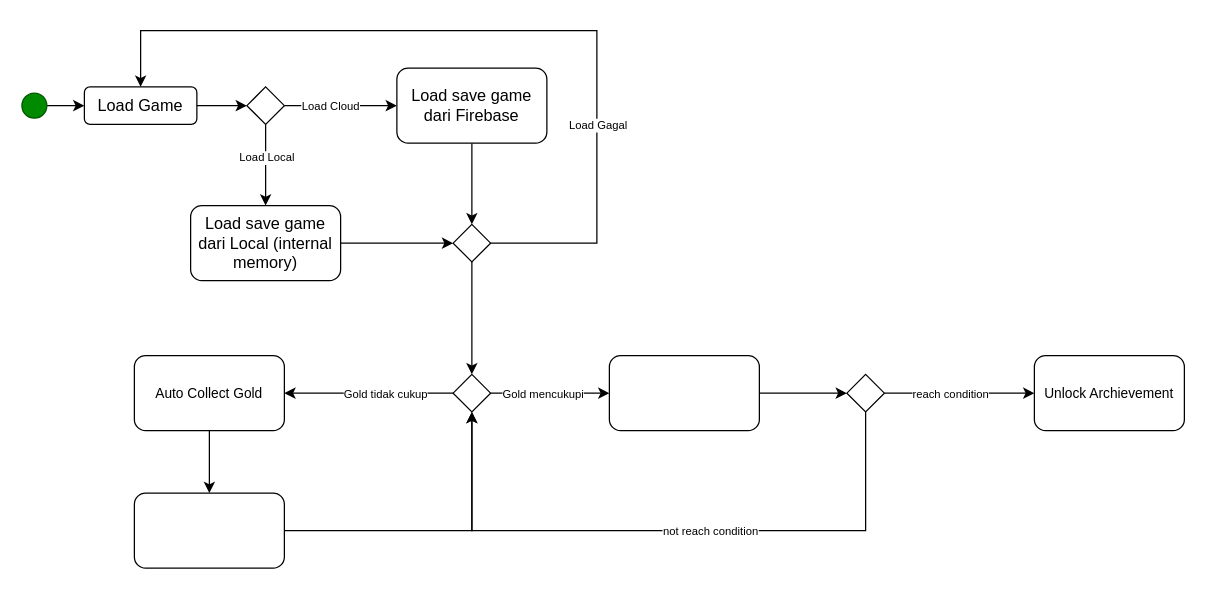
This 1206x590 diagram has some shape labels left out. Each missing label, with the centre of its shape:
Klik / Tap Layar Gameplay: point 208,530
Upgrade Resources: point 683,392
